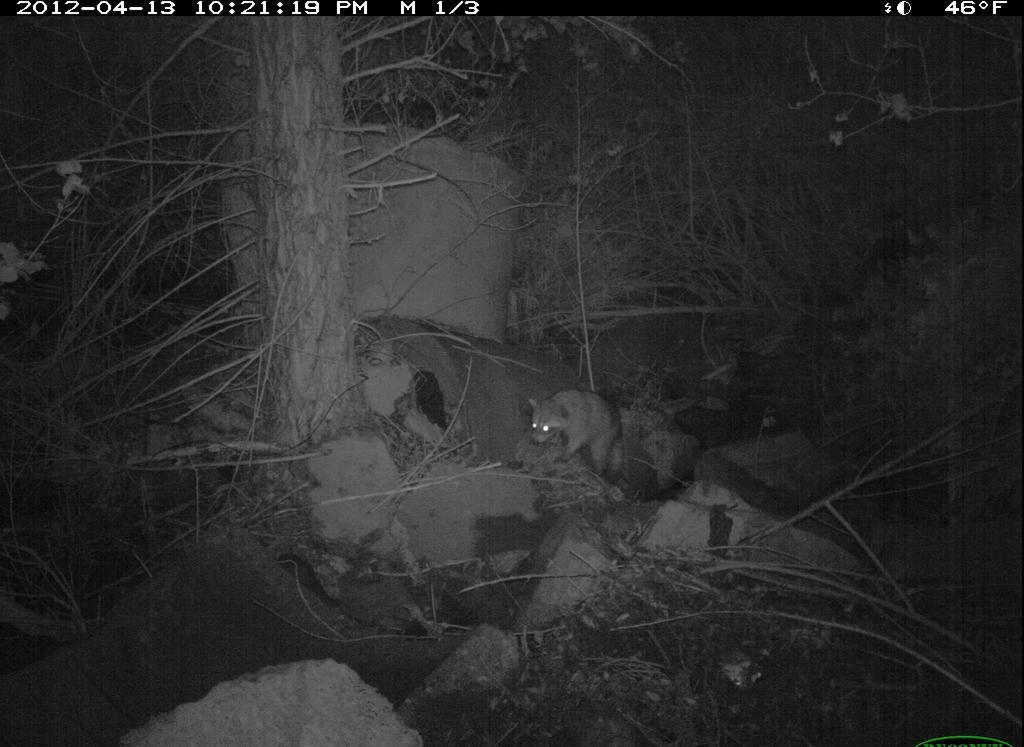raccoon: (524, 379, 638, 487)
